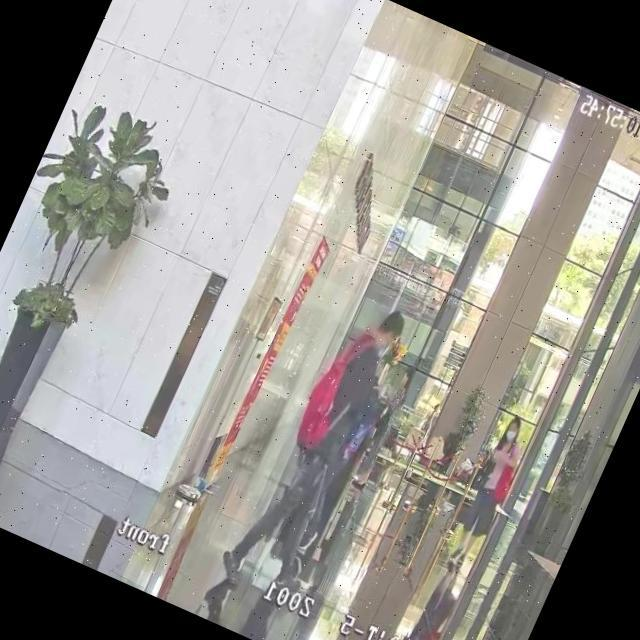person: (211, 285, 430, 618), (433, 410, 538, 574)
